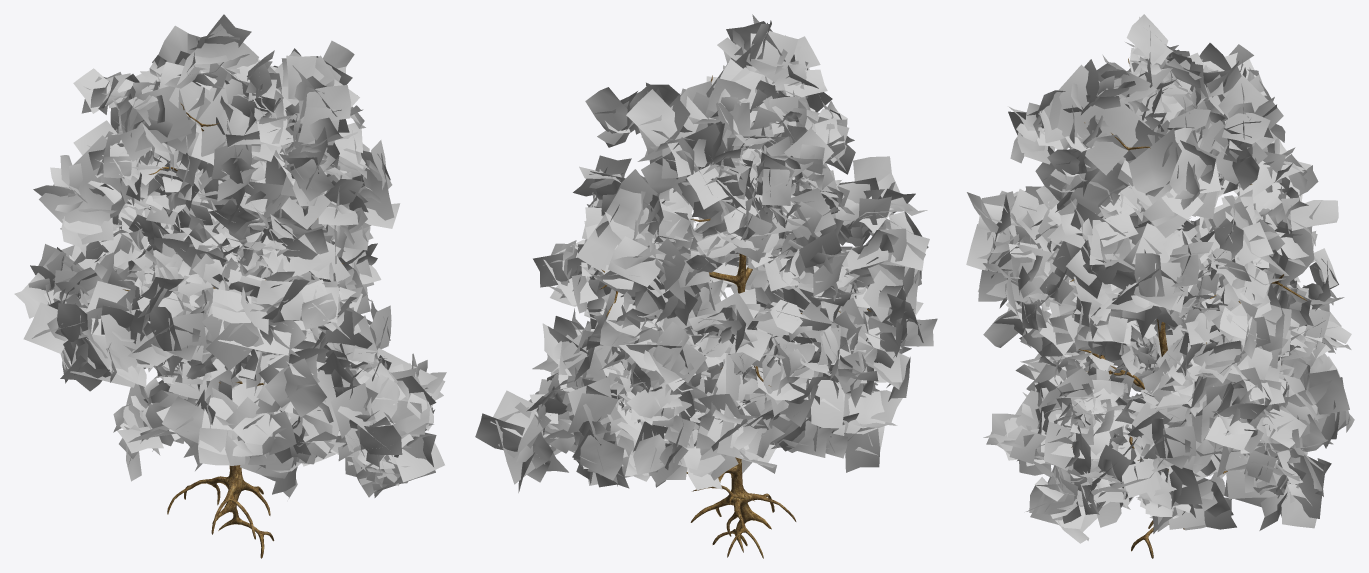
File: Tree8.fbx
3 renders of one model, left to right at view 1: azimuth 30°, elevation 25°; view 2: azimuth 150°, elevation 25°; view 3: azimuth 270°, elevation 25°, orthographic. The views are drawn at different scales.
Visible parts, largest first — view 1: tree8|branch8-2|Dupli|202, tree8|branch8-2|Dupli|42, tree8|branch8-1|Dupli|207, tree8|branch8-1|Dupli|25, tree8|branch8-2|Dupli|226, tree8|branch8-2|Dupli|206, tree8|branch8-2|Dupli|246, tree8|branch8-1|Dupli|75, tree8|branch8-2|Dupli|94, tree8|branch8-2|Dupli|96, tree8|branch8-1|Dupli|139, tree8|branch8-2|Dupli|72 (+59 smaller); view 2: tree8|branch8-1|Dupli|95, tree8|branch8-1|Dupli|187, tree8|branch8-2|Dupli|126, tree8|branch8-2|Dupli|22, tree8|branch8-1|Dupli|69, tree8|branch8-1|Dupli|207, tree8|branch8-2|Dupli|40, tree8|branch8-2|Dupli|102, tree8|branch8-1|Dupli|45, tree8|branch8-1|Dupli|193, tree8|branch8-1|Dupli|151, tree8|branch8-1|Dupli|91 (+58 smaller); view 3: tree8|branch8-2|Dupli|36, tree8|branch8-1|Dupli|19, tree8|branch8-2|Dupli|214, tree8|branch8-2|Dupli|82, tree8|branch8-2|Dupli|126, tree8|branch8-2|Dupli|22, tree8|branch8-2|Dupli|212, tree8|branch8-2|Dupli|54, tree8|branch8-1|Dupli|187, tree8|branch8-1|Dupli|207, tree8|branch8-2|Dupli|124, tree8|branch8-1|Dupli|247 (+69 smaller).
Boxes of the visible parts, box(x1,y1,x2,y2) form: tree8|branch8-2|Dupli|202: box(33, 135, 131, 257); tree8|branch8-2|Dupli|42: box(169, 14, 258, 133); tree8|branch8-1|Dupli|207: box(212, 264, 309, 334); tree8|branch8-1|Dupli|25: box(256, 331, 329, 417); tree8|branch8-2|Dupli|226: box(112, 83, 191, 161); tree8|branch8-2|Dupli|206: box(202, 269, 306, 370); tree8|branch8-2|Dupli|246: box(194, 117, 258, 234); tree8|branch8-1|Dupli|75: box(201, 73, 295, 156); tree8|branch8-2|Dupli|94: box(60, 281, 146, 391); tree8|branch8-2|Dupli|96: box(128, 306, 214, 376); tree8|branch8-1|Dupli|139: box(198, 378, 286, 465); tree8|branch8-2|Dupli|72: box(279, 107, 343, 201); tree8|branch8-1|Dupli|95: box(576, 169, 690, 273); tree8|branch8-1|Dupli|187: box(589, 236, 710, 322); tree8|branch8-2|Dupli|126: box(475, 390, 571, 492); tree8|branch8-2|Dupli|22: box(567, 377, 624, 483); tree8|branch8-1|Dupli|69: box(626, 81, 717, 183); tree8|branch8-1|Dupli|207: box(835, 156, 927, 227); tree8|branch8-2|Dupli|40: box(619, 321, 707, 400); tree8|branch8-2|Dupli|102: box(756, 128, 833, 205); tree8|branch8-1|Dupli|45: box(833, 390, 902, 472); tree8|branch8-1|Dupli|193: box(641, 137, 744, 219); tree8|branch8-1|Dupli|151: box(846, 228, 929, 295); tree8|branch8-1|Dupli|91: box(707, 59, 785, 155); tree8|branch8-2|Dupli|36: box(1027, 59, 1149, 175); tree8|branch8-1|Dupli|19: box(1128, 128, 1206, 237); tree8|branch8-2|Dupli|214: box(1047, 199, 1138, 298); tree8|branch8-2|Dupli|82: box(1106, 253, 1216, 338); tree8|branch8-2|Dupli|126: box(1224, 442, 1331, 530); tree8|branch8-2|Dupli|22: box(1283, 369, 1354, 451); tree8|branch8-2|Dupli|212: box(978, 234, 1056, 316); tree8|branch8-2|Dupli|54: box(1035, 401, 1131, 478); tree8|branch8-1|Dupli|187: box(1276, 197, 1338, 289); tree8|branch8-1|Dupli|207: box(967, 186, 1047, 244); tree8|branch8-2|Dupli|124: box(1205, 369, 1275, 476); tree8|branch8-1|Dupli|247: box(1035, 146, 1128, 215).
Size of the model in its own units: 1971 by 2773 by 1867.
